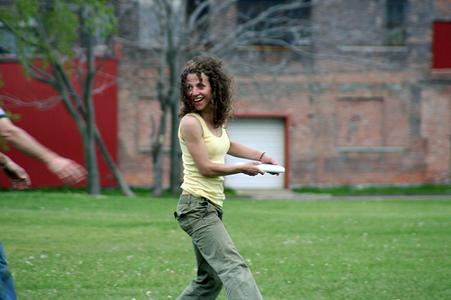person: (176, 58, 281, 300)
